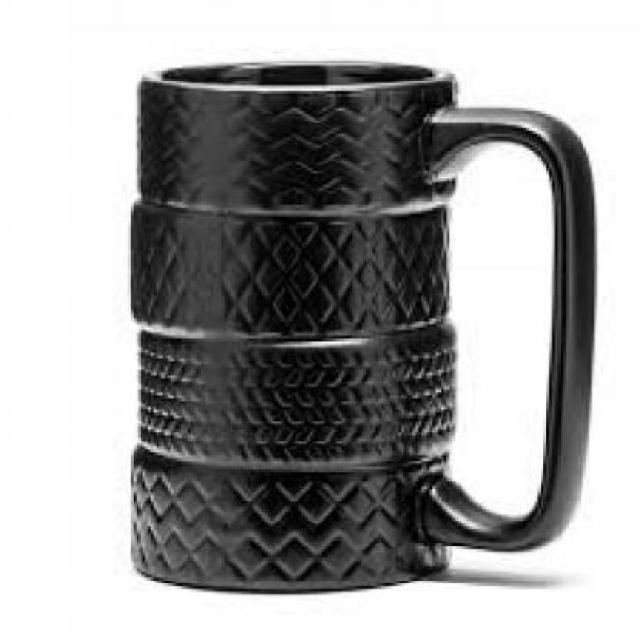cup: (111, 57, 605, 598)
